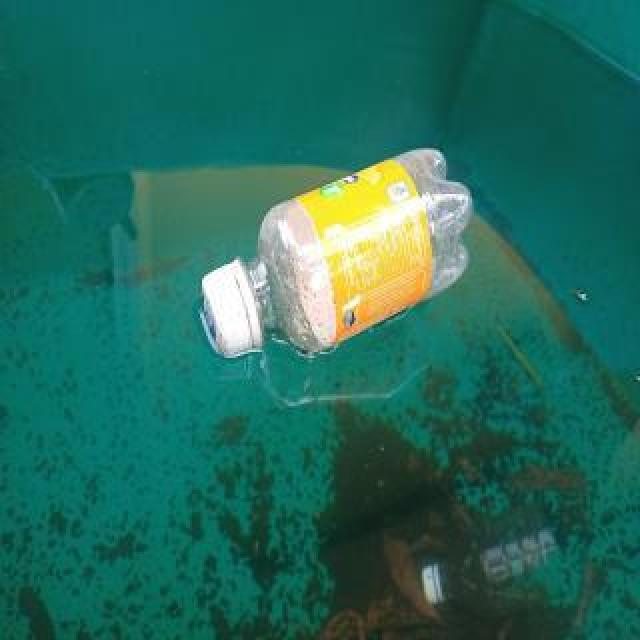Bottle: (188, 140, 482, 367)
